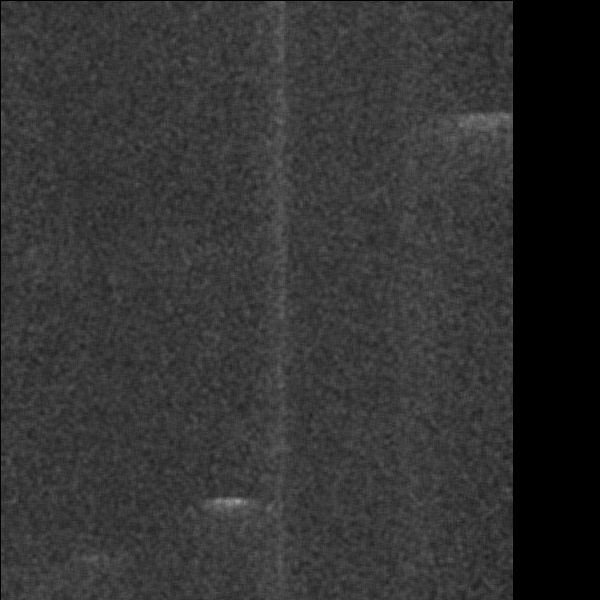spark: (366, 487, 446, 548), (359, 442, 395, 468)
